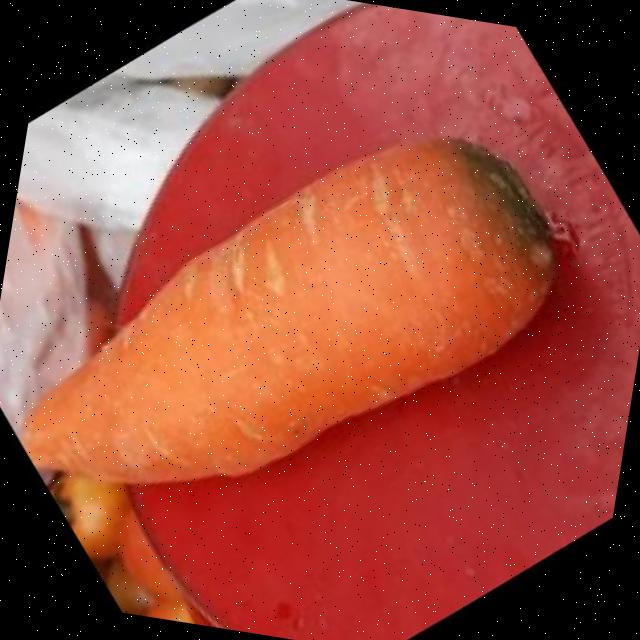carrot: (22, 140, 554, 483)
